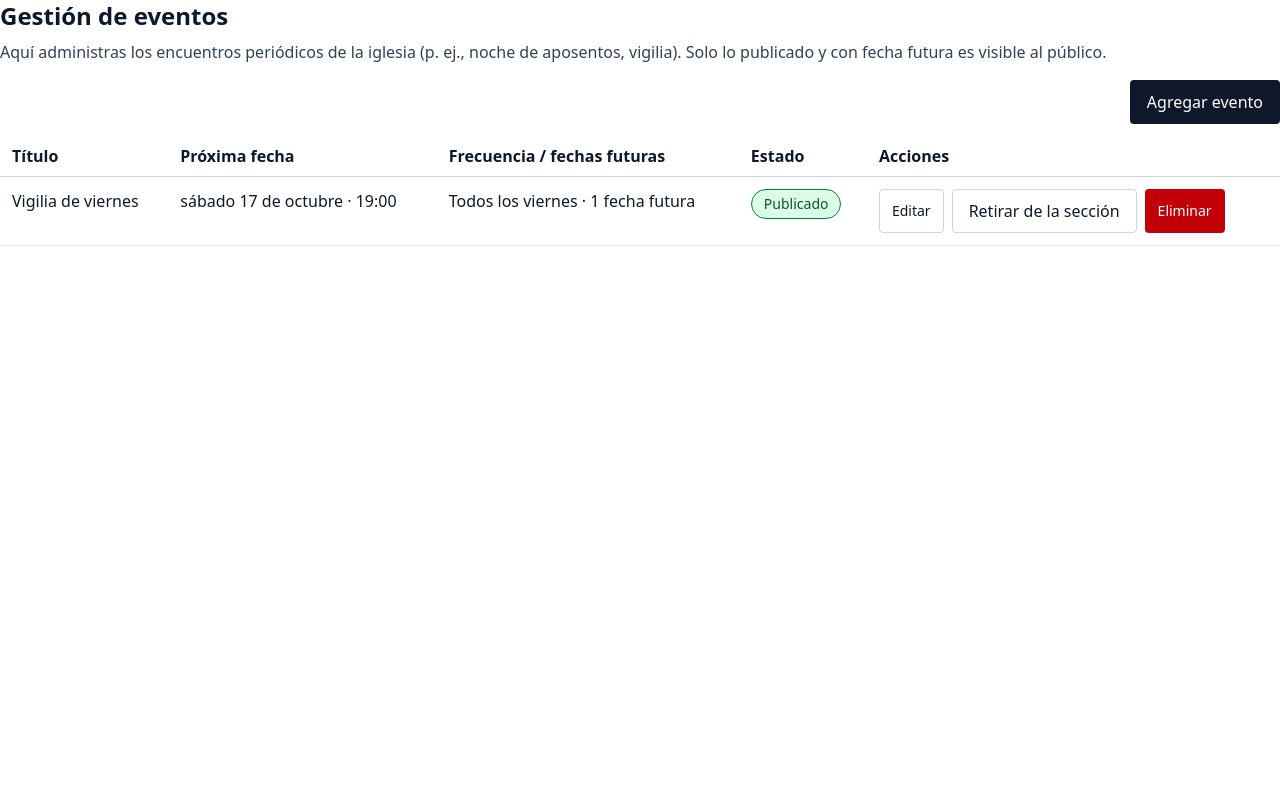
Scenario: EventsList · publicar, retirar y eliminar (US4) › editar un evento publicado avisa que el cambio ya es visible (FR-014)
This screenshot has width=1280, height=800.
Click the button "Editar" at (911, 211), box [879, 189, 944, 233]
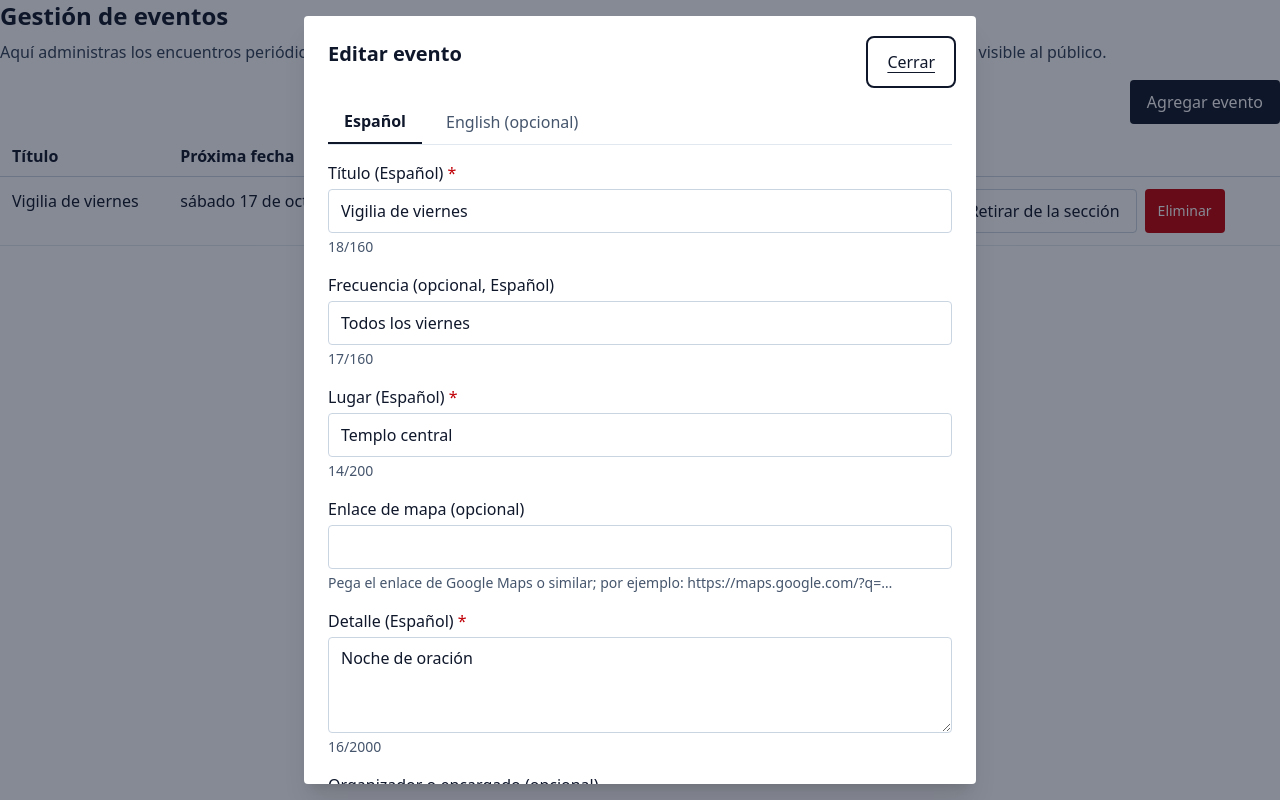
Type " ampliada" into the field labelled "Título (Español) *" at (640, 211), box [328, 189, 952, 233]
(page scrolled)
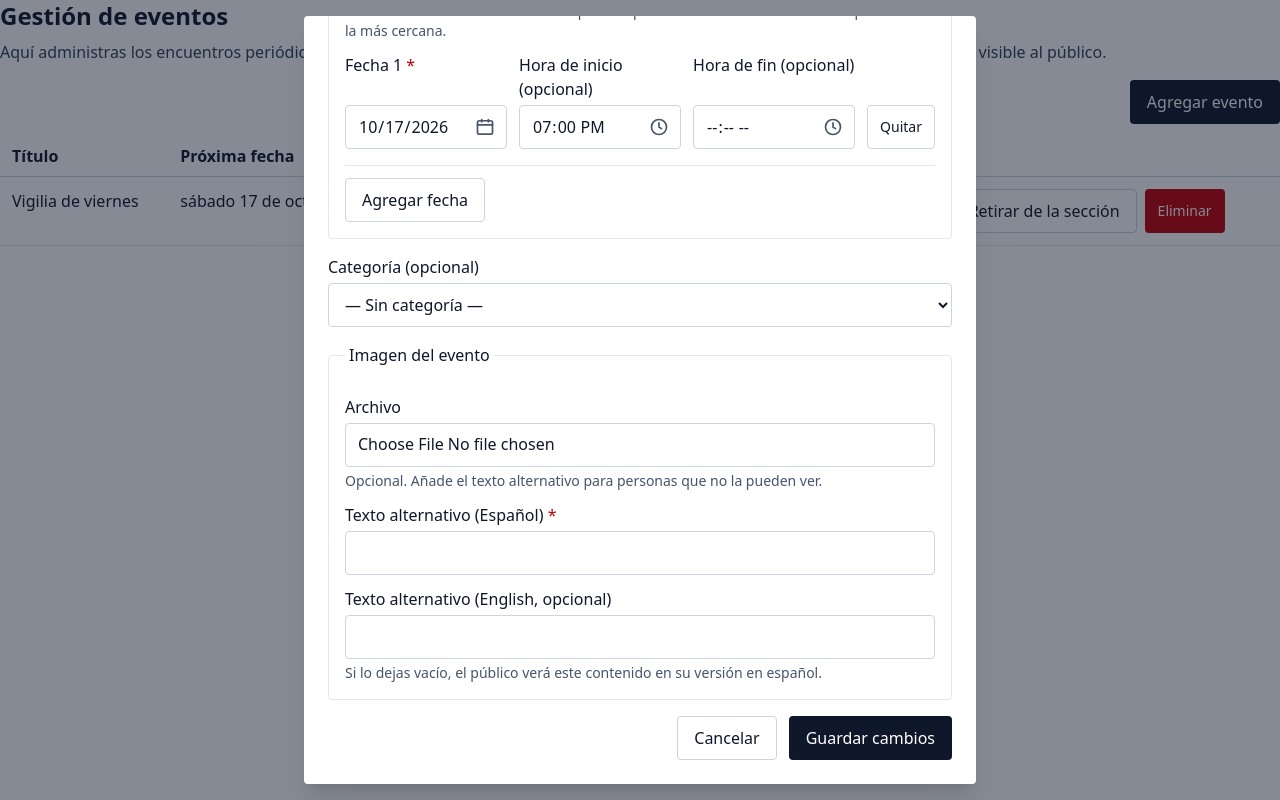
Click the button "Guardar cambios" at (870, 738), box [789, 716, 952, 760]
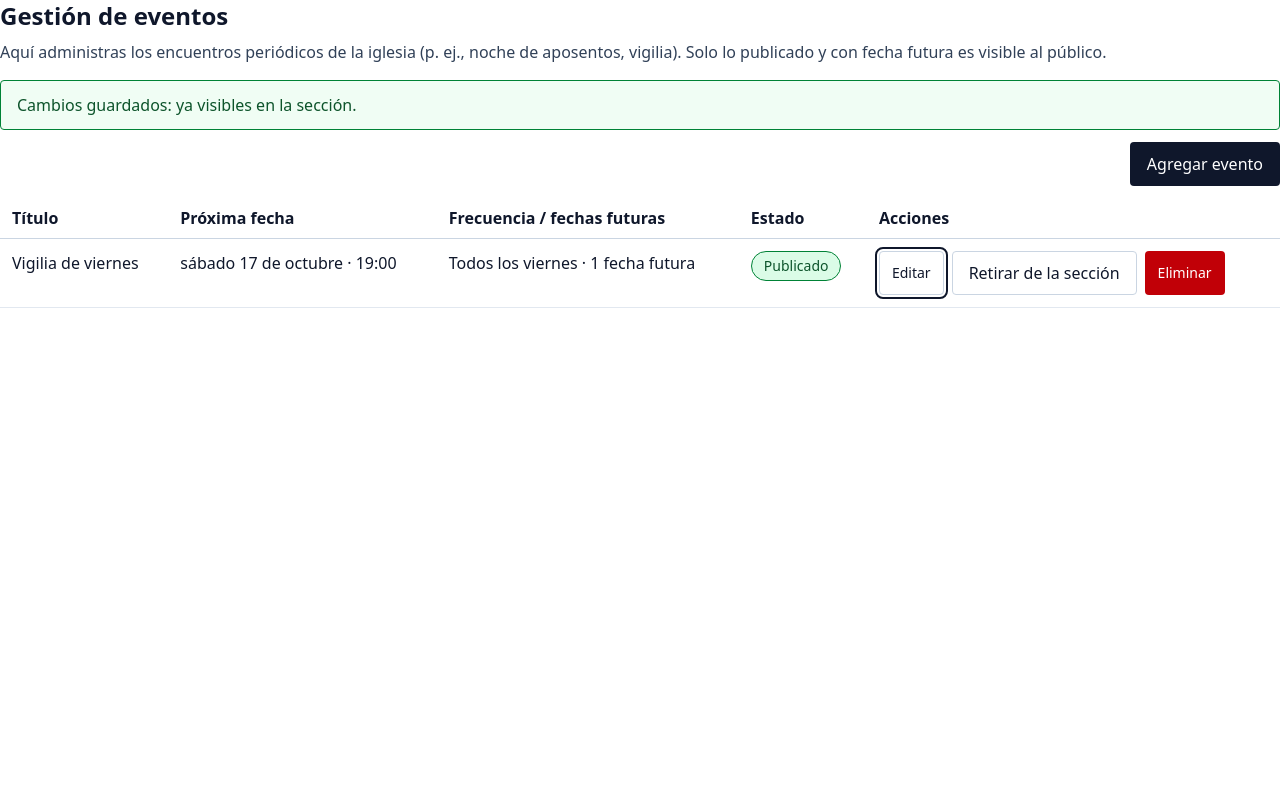
Check: the text "Cambios guardados: ya visibles en la sección." is shown, box [0, 80, 1279, 130]
